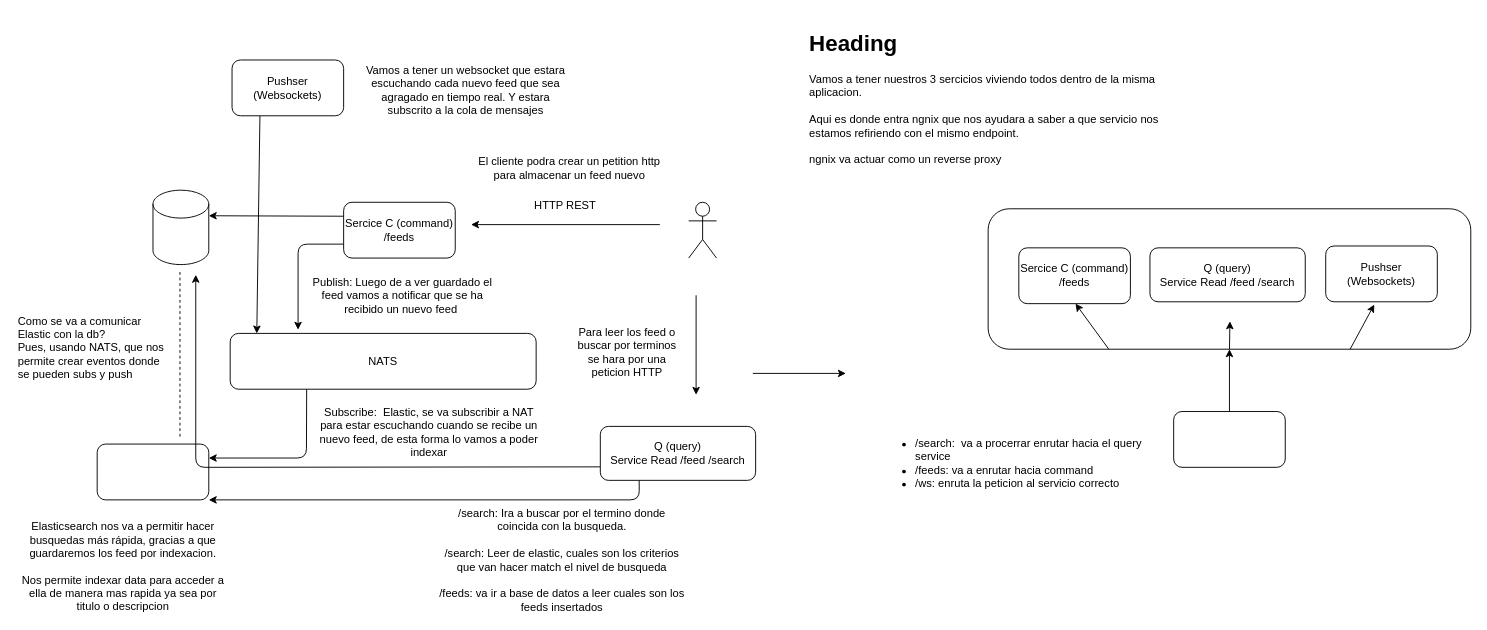
The diagram is 1487 pixels wide and 630 high, and some of its shapes have lost their labels. Each missing label, with the box of its shape:
Client: (688, 201, 717, 258)
Elasticsearch: (96, 443, 209, 500)
NGINX: (1173, 411, 1285, 467)
pg: (152, 189, 209, 265)
